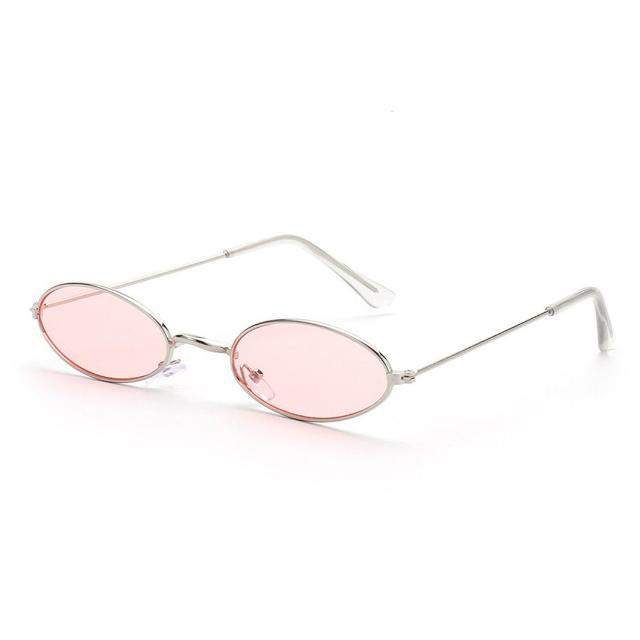Sunglasses: (26, 222, 618, 432)
